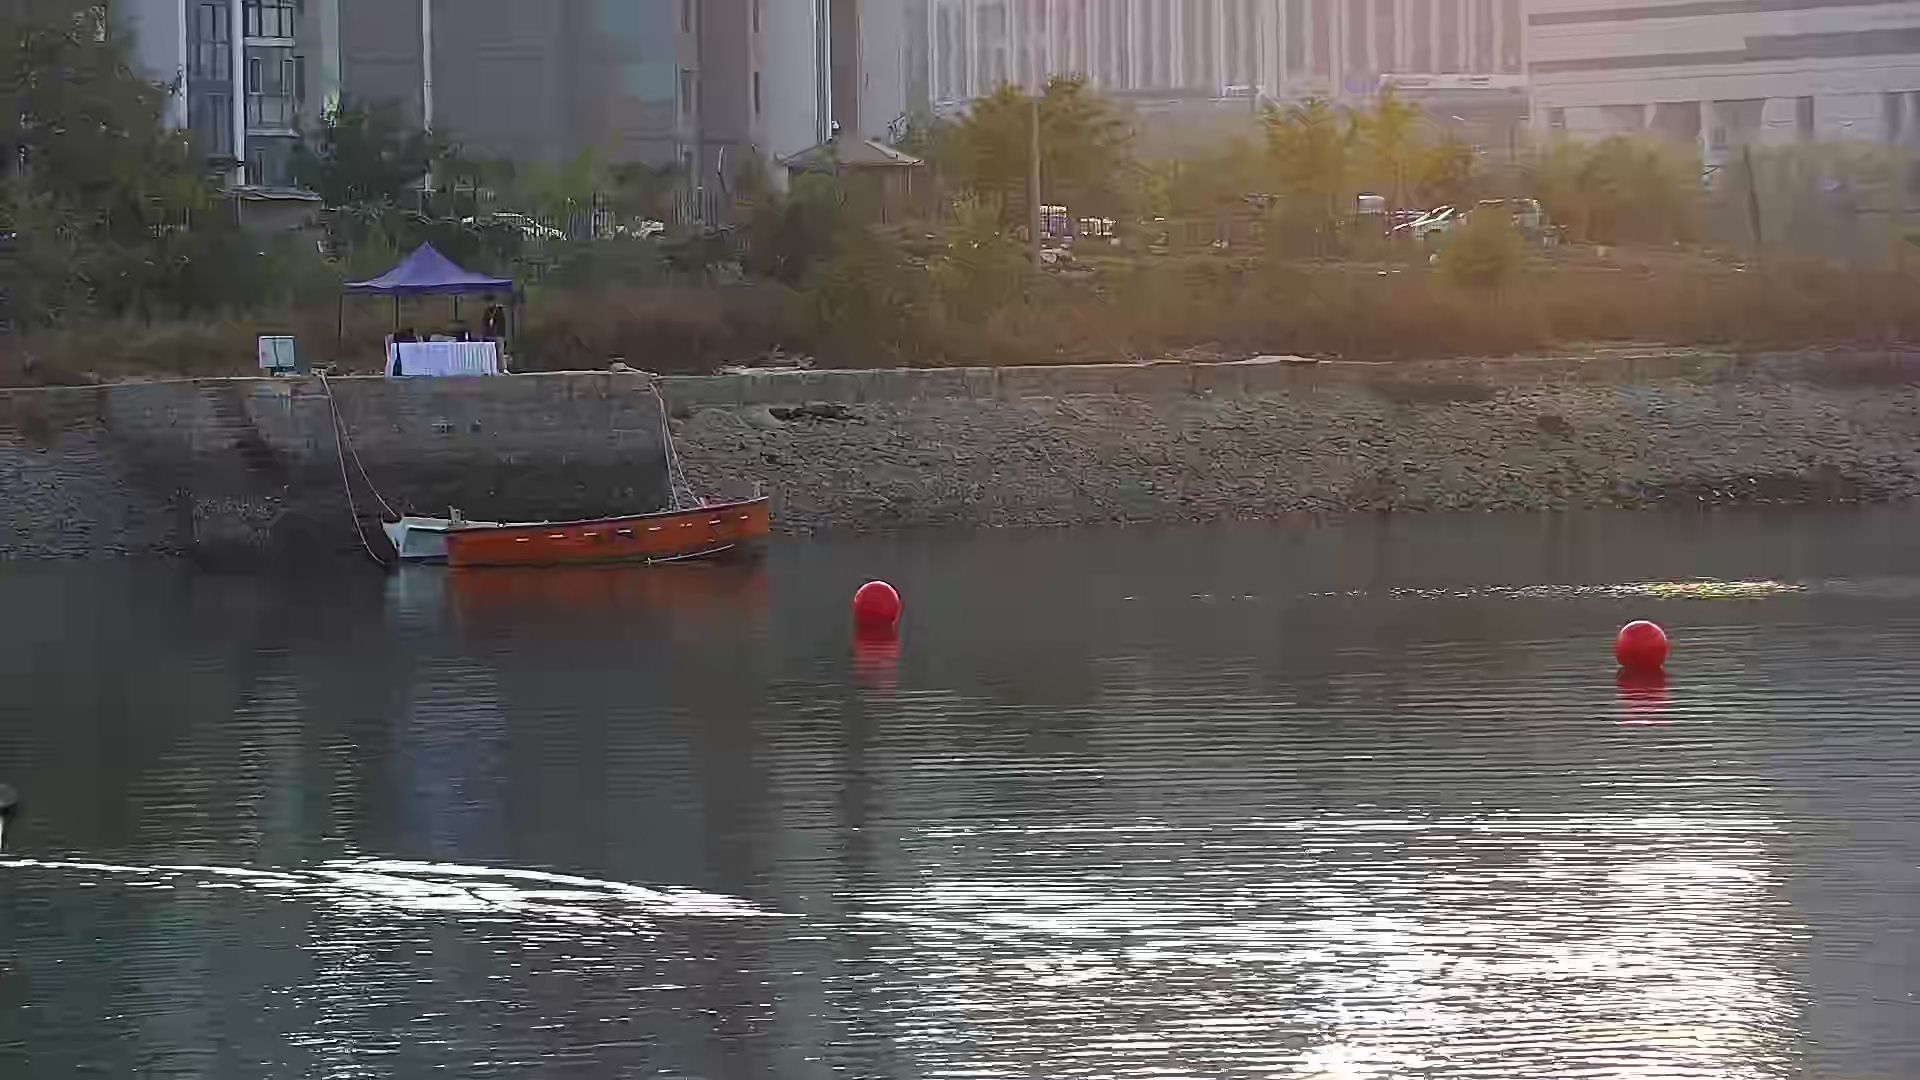ball: (847, 575, 909, 640), (1611, 620, 1672, 680)
boat: (444, 508, 774, 568)
